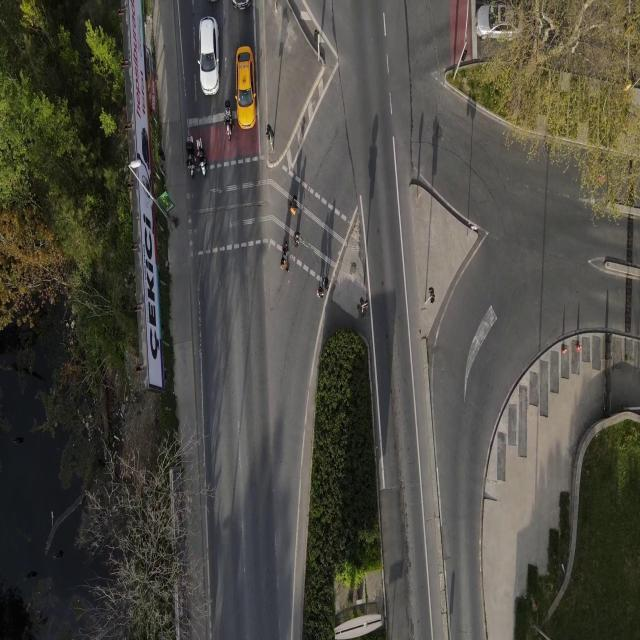p3rson: (289, 194, 299, 211), (280, 256, 290, 272), (293, 231, 301, 248), (282, 239, 289, 256), (316, 286, 324, 299), (322, 277, 328, 292)
